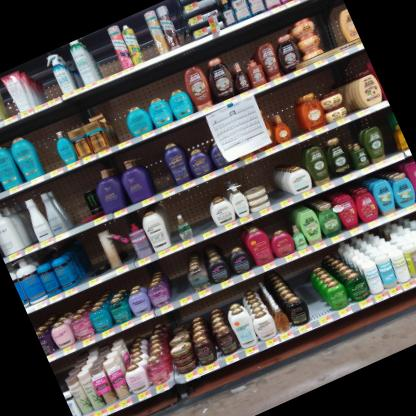empty_space: (66, 229, 113, 282), (134, 139, 177, 193), (287, 260, 324, 318), (82, 27, 122, 78), (25, 122, 64, 173), (51, 177, 90, 225), (95, 95, 132, 144), (155, 255, 195, 300), (304, 5, 341, 53), (25, 53, 61, 102), (179, 188, 214, 235), (105, 220, 140, 266), (371, 114, 405, 158), (126, 15, 157, 60), (274, 93, 302, 135), (156, 202, 183, 244), (254, 161, 281, 203), (0, 75, 18, 118)
